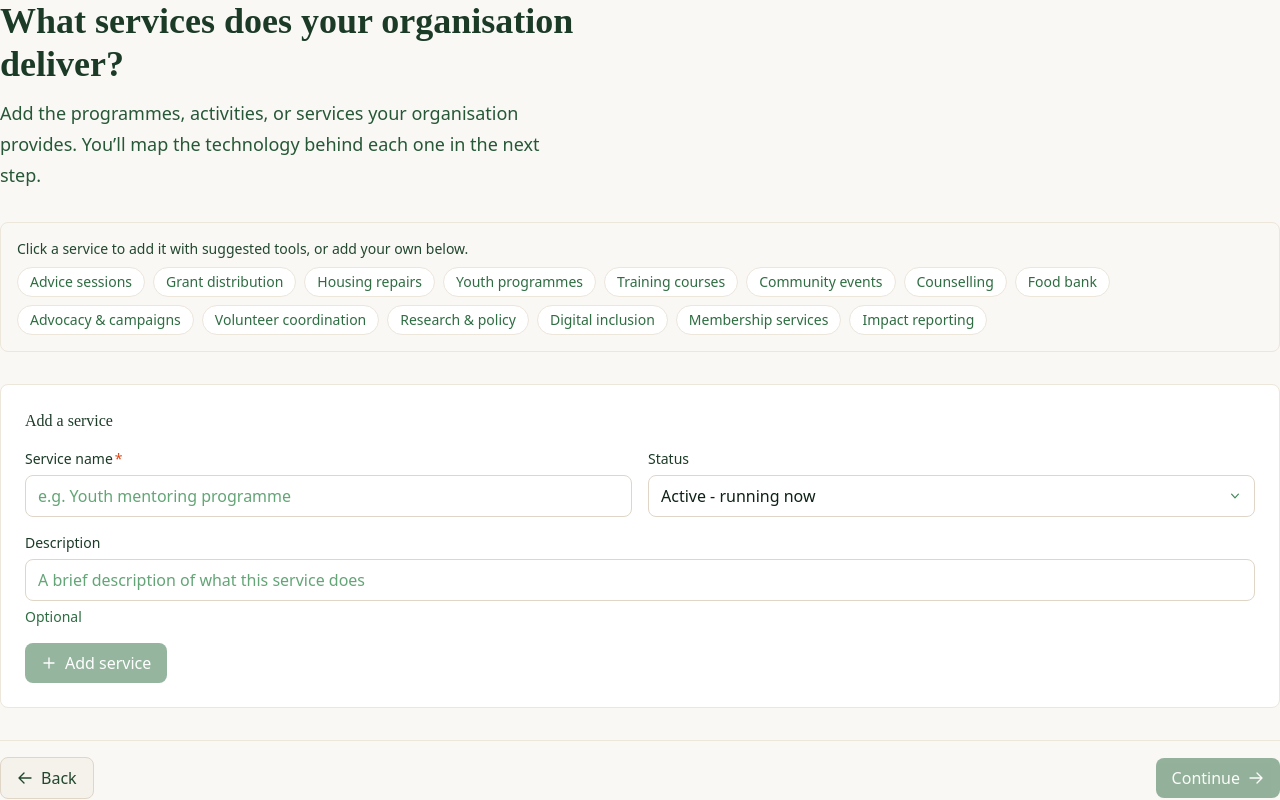
Test: ServiceListForm › adds a service to the list
Type "Debt counselling" into the field labelled "Service name*".
click(328, 496); type("Debt counselling")  # box [25,475,632,517]
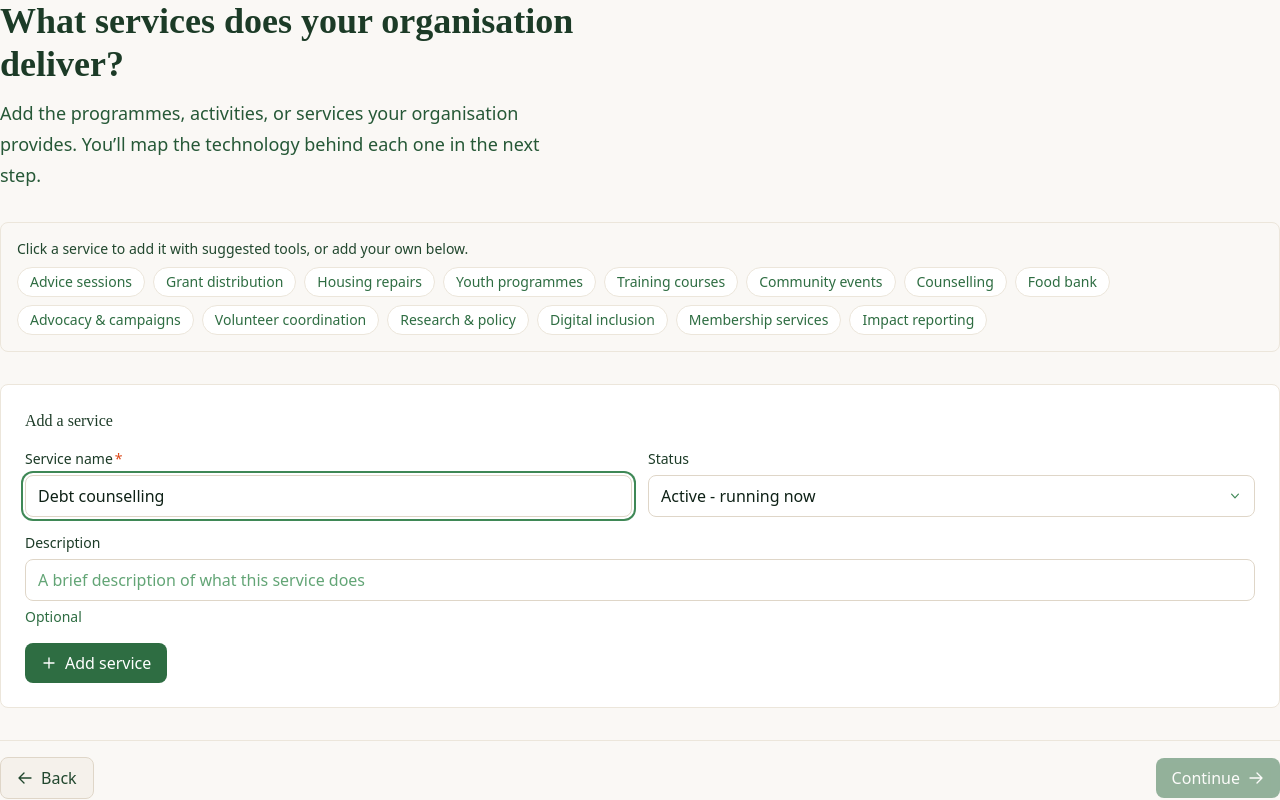
Click the button "Add service".
click(96, 663)  # box [25,643,167,683]
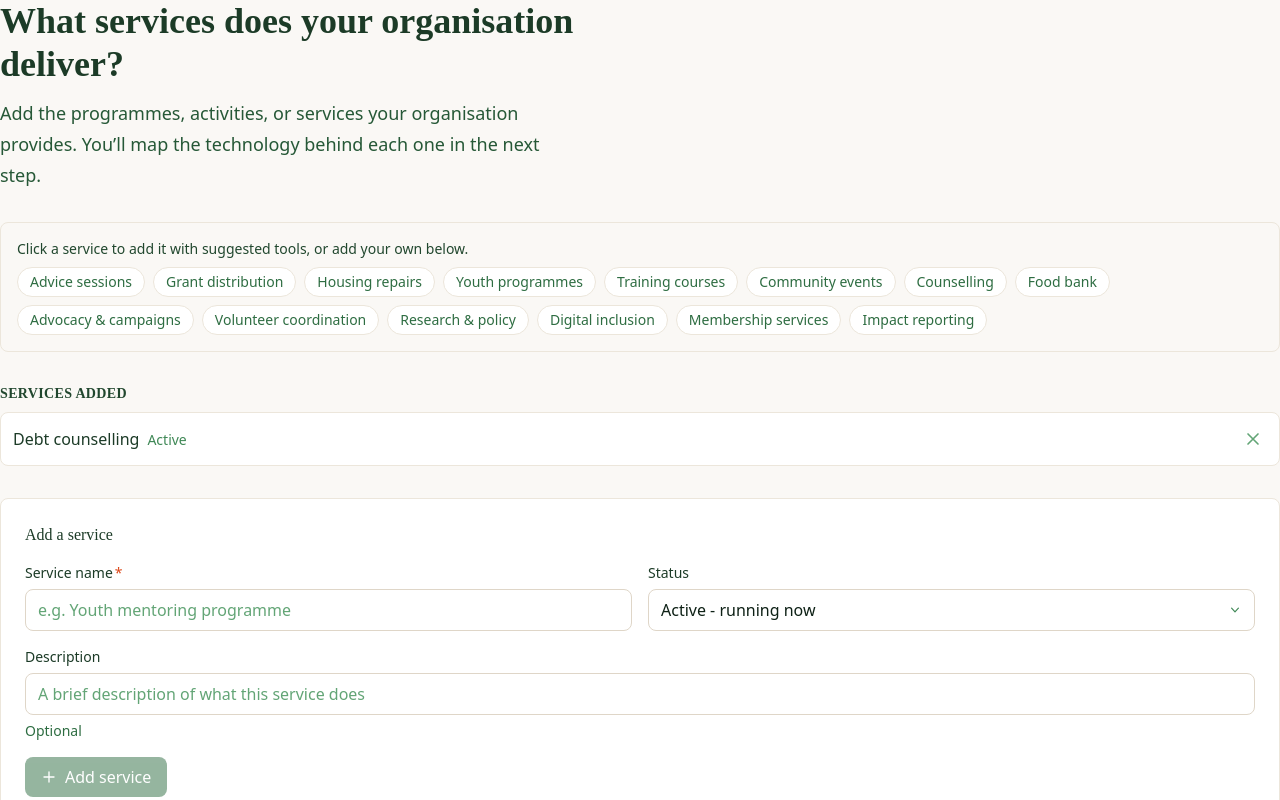
Expected: the text "Debt counselling" is shown, [13,428,139,450]
